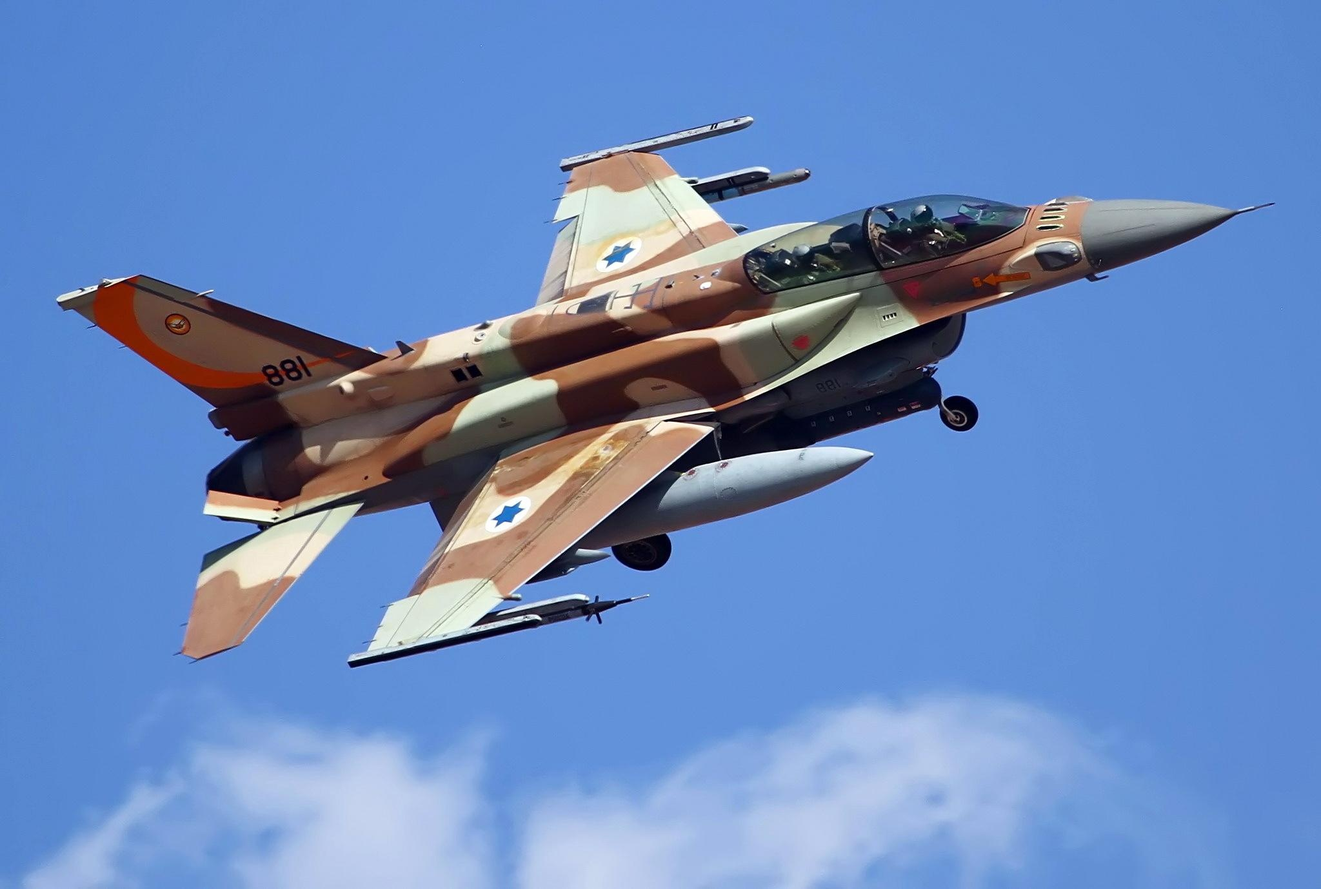aircraft: (58, 119, 1275, 670)
